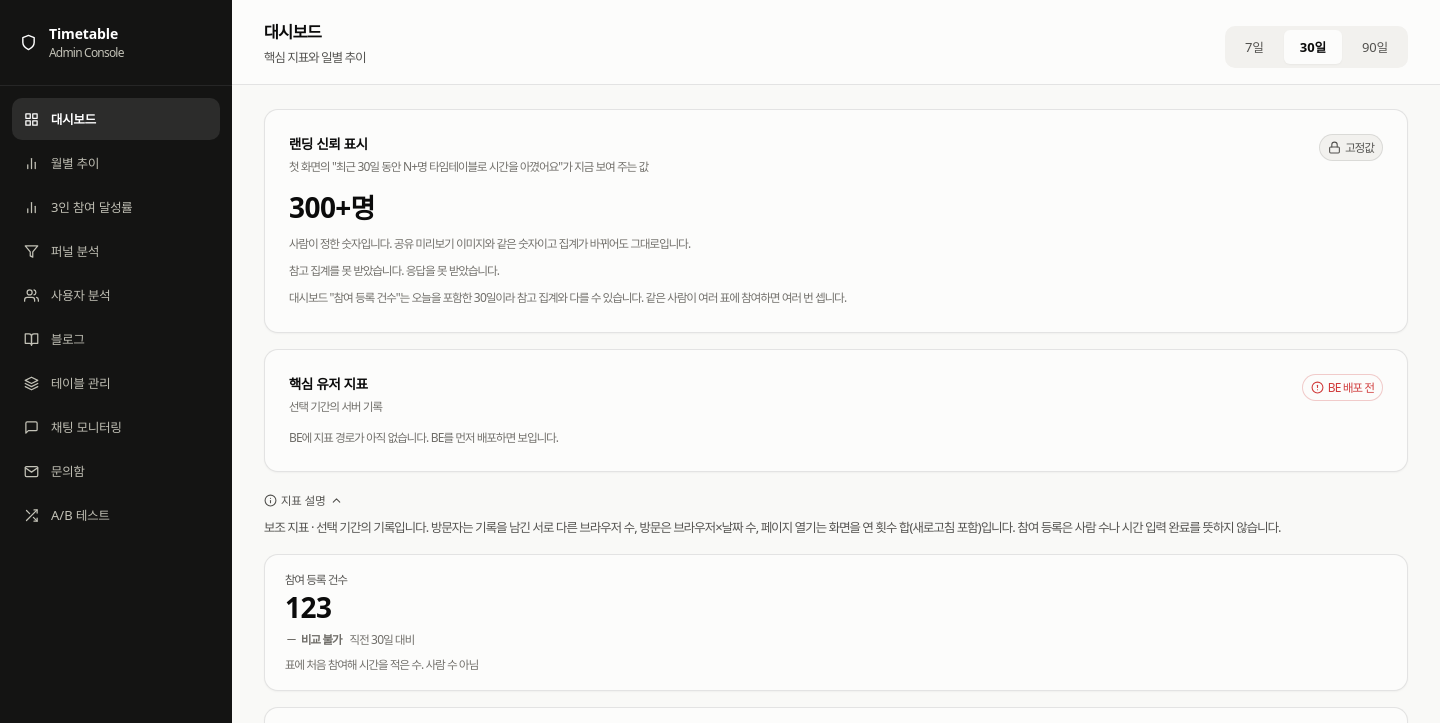
Test case: 참여 달성률은 별도 탭에서만 조회하고 대시보드는 표로 시작한다
expect the text "123" is shown: met, box 285,588 -> 331,626
Click the button "3인 참여 달성률" at coordinates (116, 207), box 12,186 -> 220,228
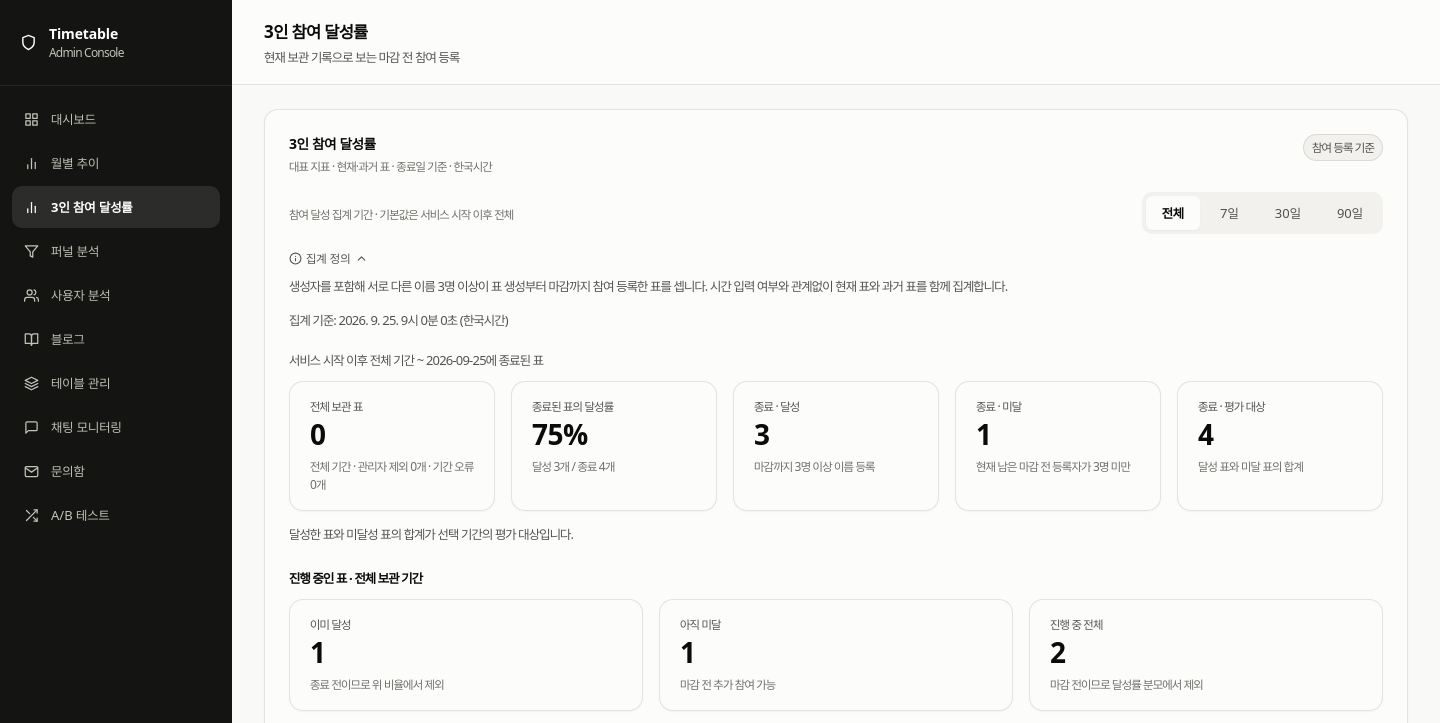
expect the text "75%" is shown: met, box 532,415 -> 588,453
expect the text "종료 · 미달" is shown: met, box 976,398 -> 1021,415
Click the button "퍼널 분석" at coordinates (116, 251), box 12,230 -> 220,272
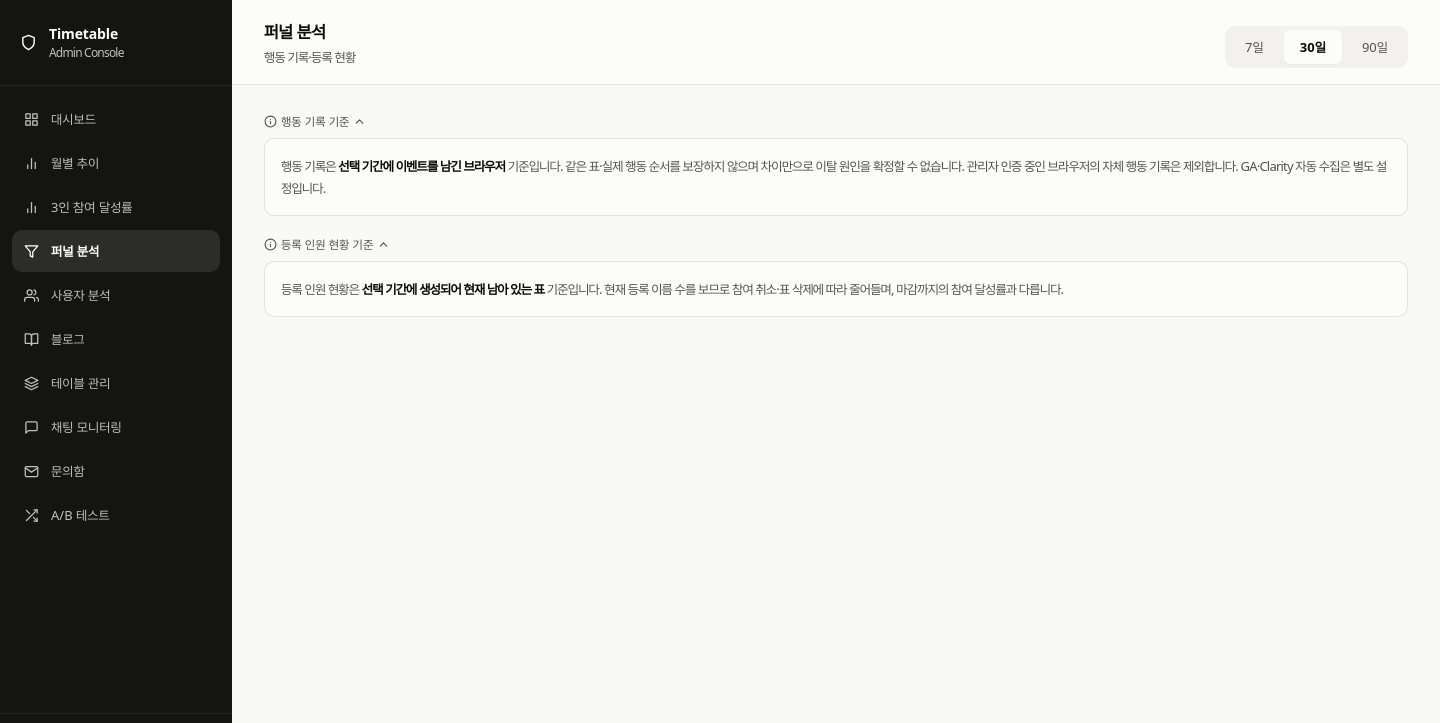
expect the text "75%" is gone: met
